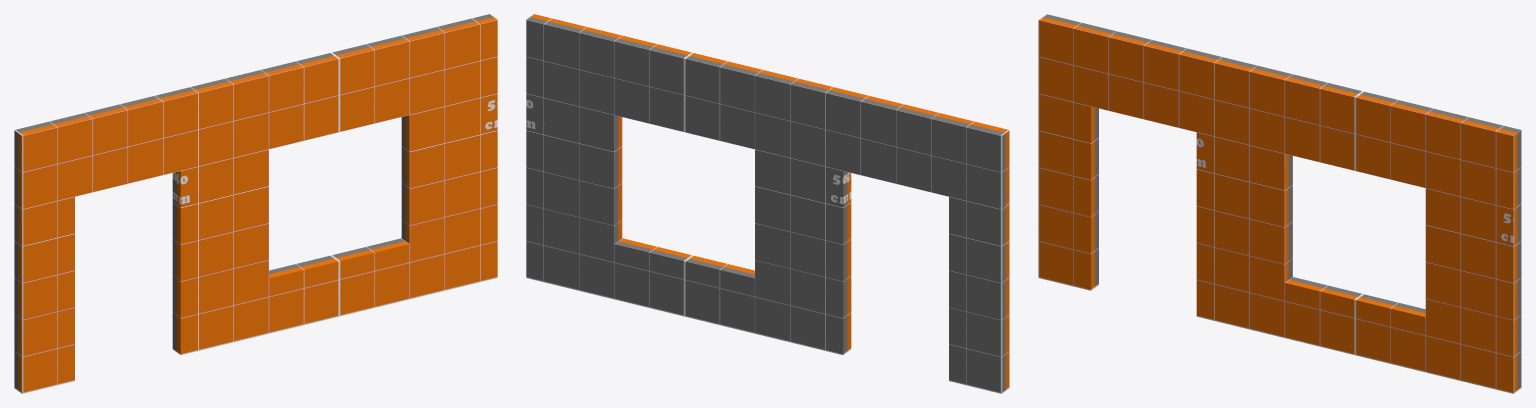
The model's file is M01WallDoorTypeA_4.FBX.
3 renders of one model, left to right at view 1: azimuth 30°, elevation 25°; view 2: azimuth 150°, elevation 25°; view 3: azimuth 330°, elevation 25°, orthographic.
Parts seen in each view (by area): view 1: M01WallDoorTypeA_4; view 2: M01WallDoorTypeA_4; view 3: M01WallDoorTypeA_4.
Part boxes in pixels (<box>): M01WallDoorTypeA_4: <box>14,14,497,393</box>; M01WallDoorTypeA_4: <box>526,14,1009,393</box>; M01WallDoorTypeA_4: <box>1038,14,1521,393</box>.
Size of what is drawn, in the model's own units: 6.75 by 3.5 by 0.2.
